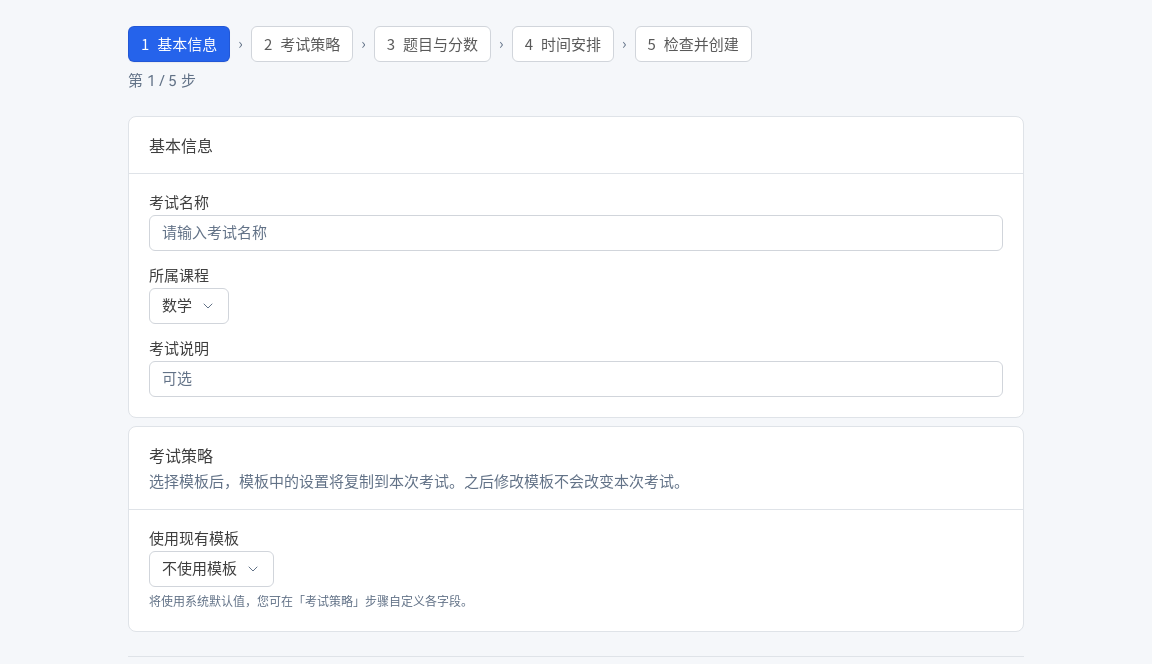
ExamCreatePage wizard — step 3 (questions + scores) › loads questions from every page when more than 100 exist
Step 1. Type "Test Exam" into the field with placeholder "请输入考试名称" → (576, 233), box [149, 215, 1003, 251]
(page scrolled)
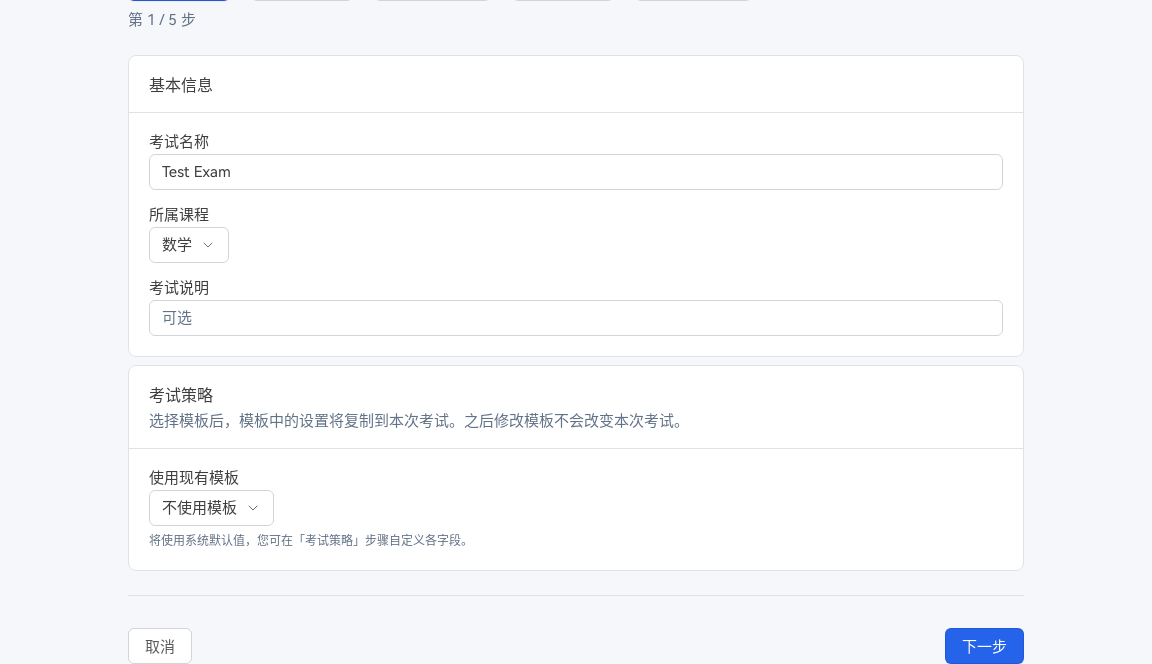
Step 2. Click the button "下一步" → (984, 646), box [945, 628, 1024, 663]
(page scrolled)
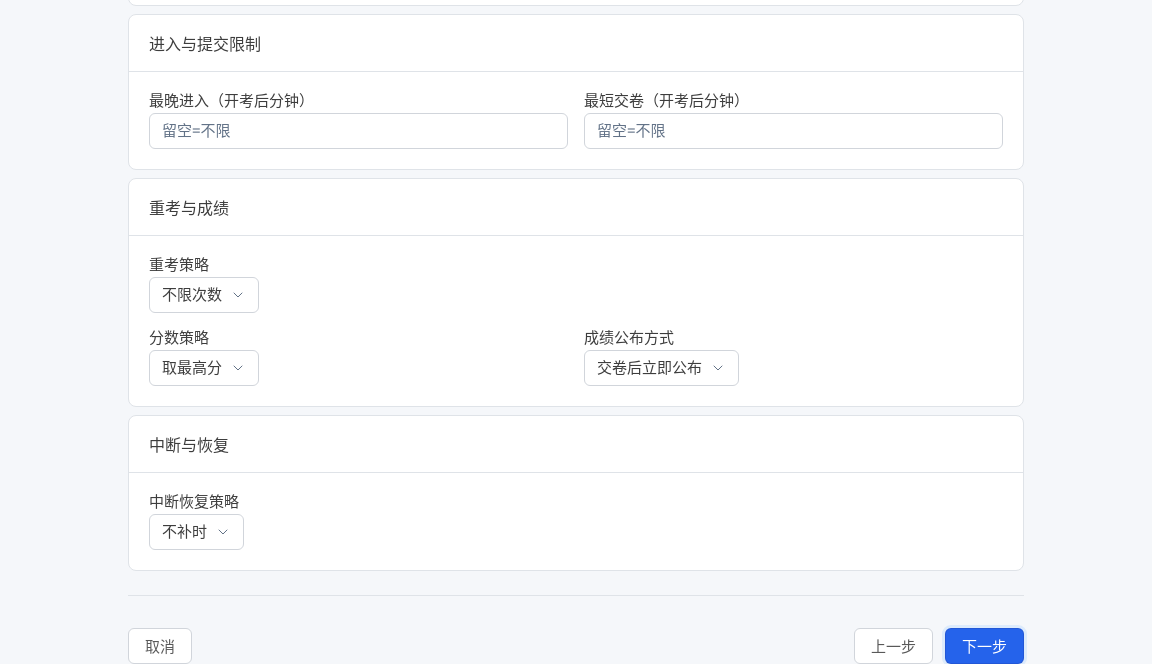
Step 3. Click the button "下一步" → (984, 646), box [945, 628, 1024, 663]
(page scrolled)
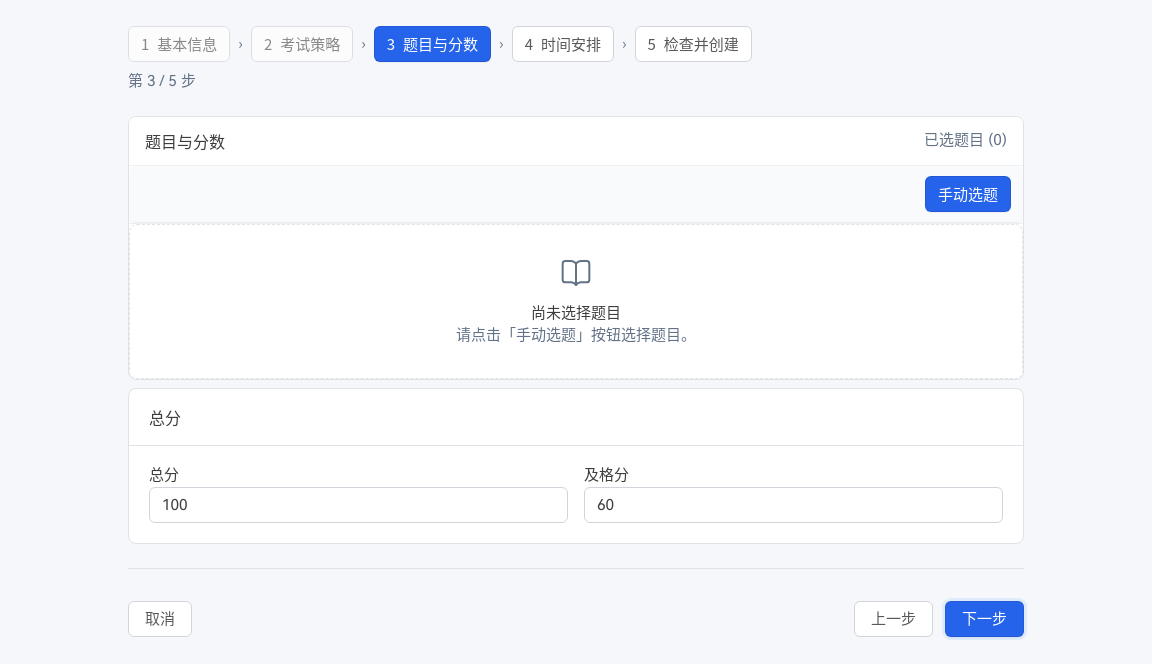
Check: the button "手动选题" is shown
Step 4. Click the button "手动选题" → (968, 194), box [925, 176, 1011, 212]
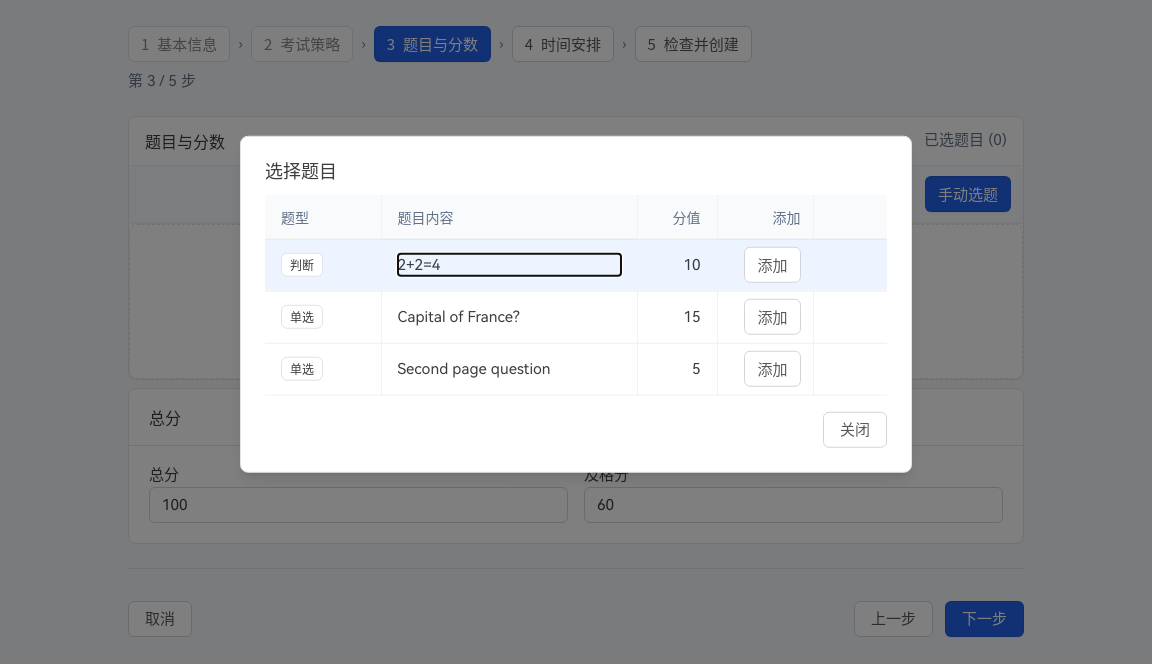
Check: the text "2+2=4" is shown, box [398, 256, 440, 274]
Check: the text "Second page question" is shown, box [398, 360, 551, 378]
